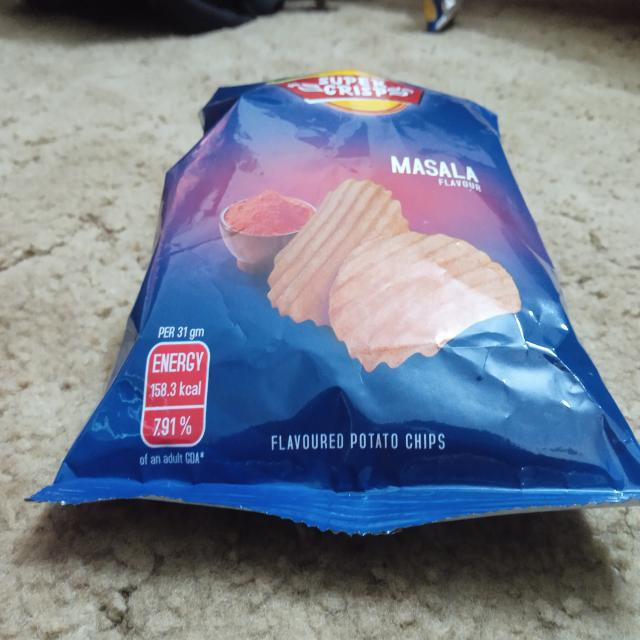Plastic: (23, 57, 640, 552)
